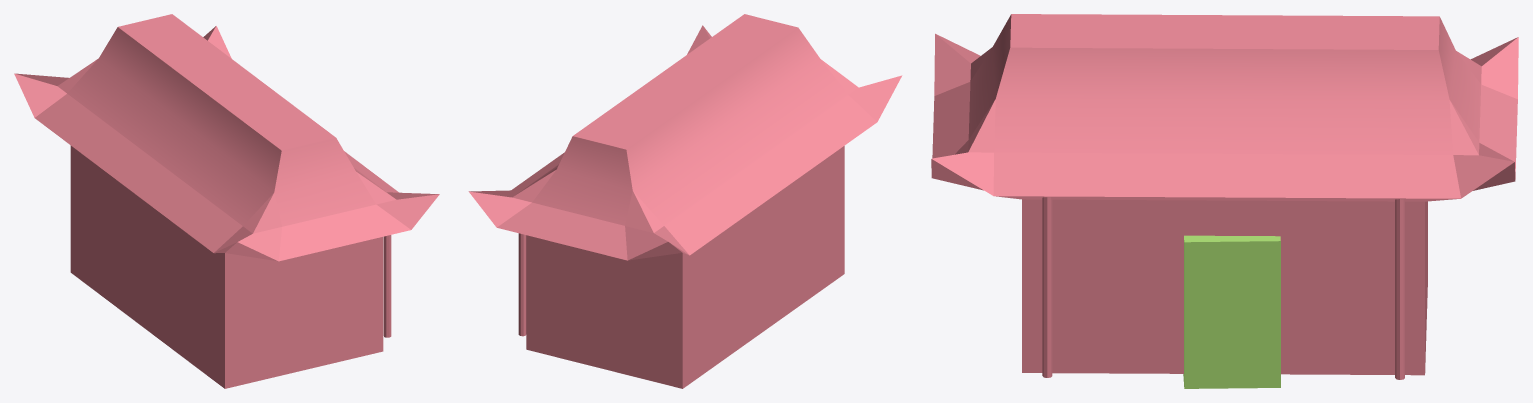
Rendered from Asset_BlockChina_House.fbx.
3 views of the same model, side by side, from view 1: azimuth 30°, elevation 25°; view 2: azimuth 150°, elevation 25°; view 3: azimuth 270°, elevation 25° (orthographic). The views are drawn at different scales.
Visible parts, largest first — view 1: Asset_BlockChina_House; view 2: Asset_BlockChina_House; view 3: Asset_BlockChina_House.
Boxes of the visible parts, x1,y1,x2,y2 form: Asset_BlockChina_House: [14, 14, 439, 388]; Asset_BlockChina_House: [468, 14, 902, 388]; Asset_BlockChina_House: [931, 14, 1518, 388].
Size of the model in its own units: 36.13 by 39.57 by 69.87.
